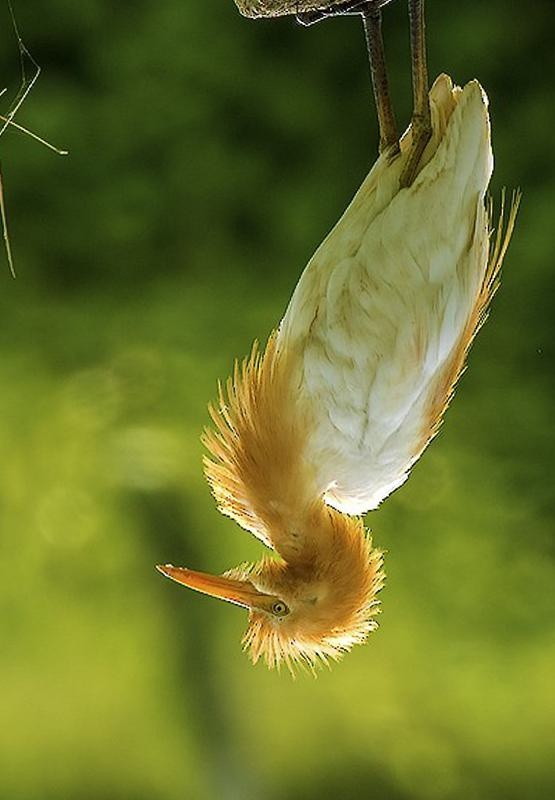egret: (153, 1, 522, 696)
